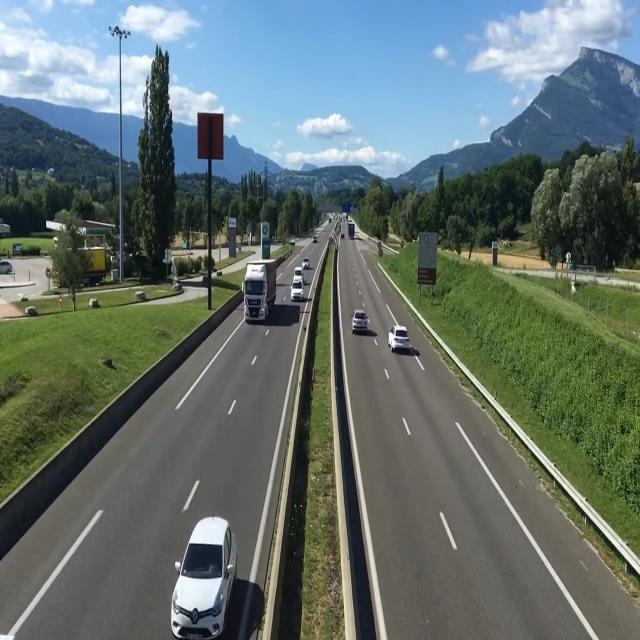car: (170, 515, 237, 636), (388, 318, 417, 364), (348, 306, 371, 342), (286, 277, 306, 304)
truck: (242, 263, 273, 326)
